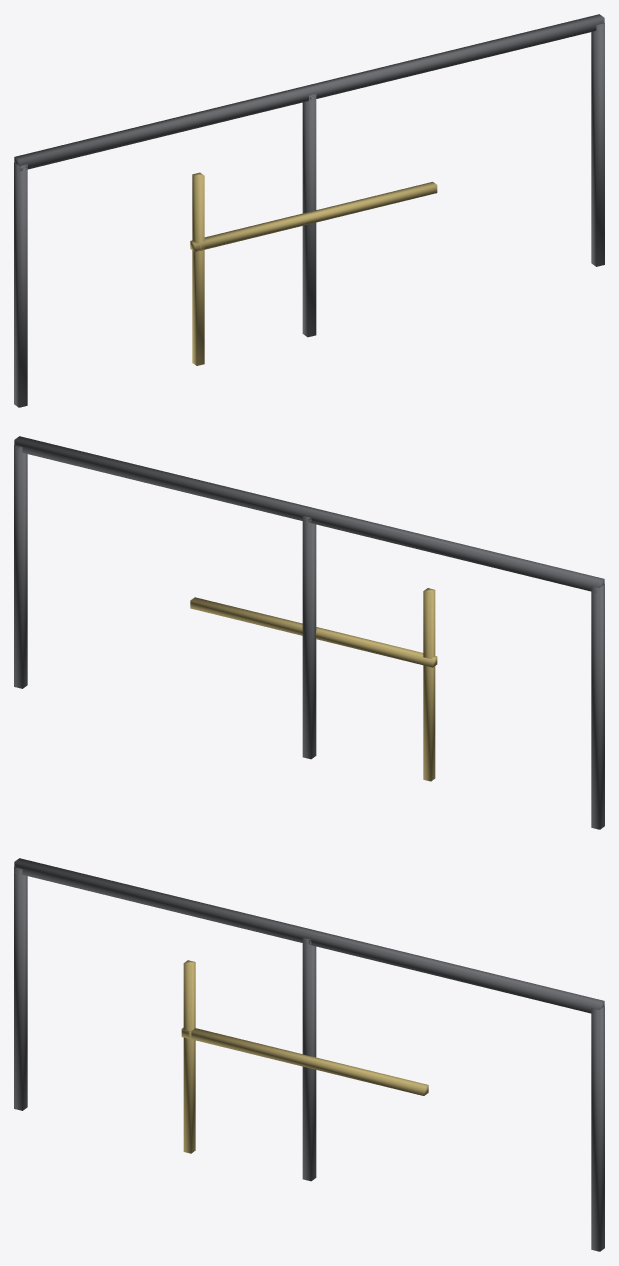
The model's file is industrial_gate_l300_h120.glb.
3 views of the same model, one above another, from view 1: azimuth 30°, elevation 25°; view 2: azimuth 150°, elevation 25°; view 3: azimuth 330°, elevation 25° (orthographic).
Visible parts, largest first — view 1: world; view 2: world; view 3: world.
Boxes of the visible parts, bbox=[...] form: world: bbox=[14, 14, 604, 407]; world: bbox=[14, 436, 604, 829]; world: bbox=[14, 858, 604, 1251].
Bounding box in the file's own units: 3.05 × 1.23 × 0.0825.
